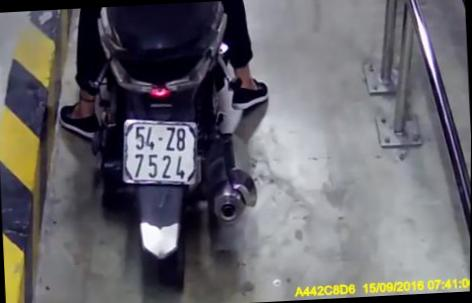LP: (117, 113, 203, 192)
